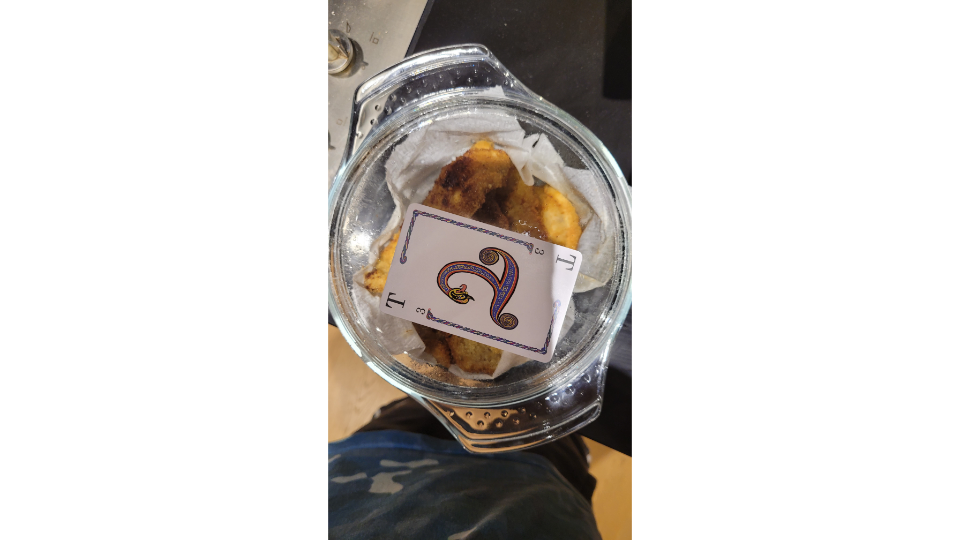T: (375, 199, 587, 365)
